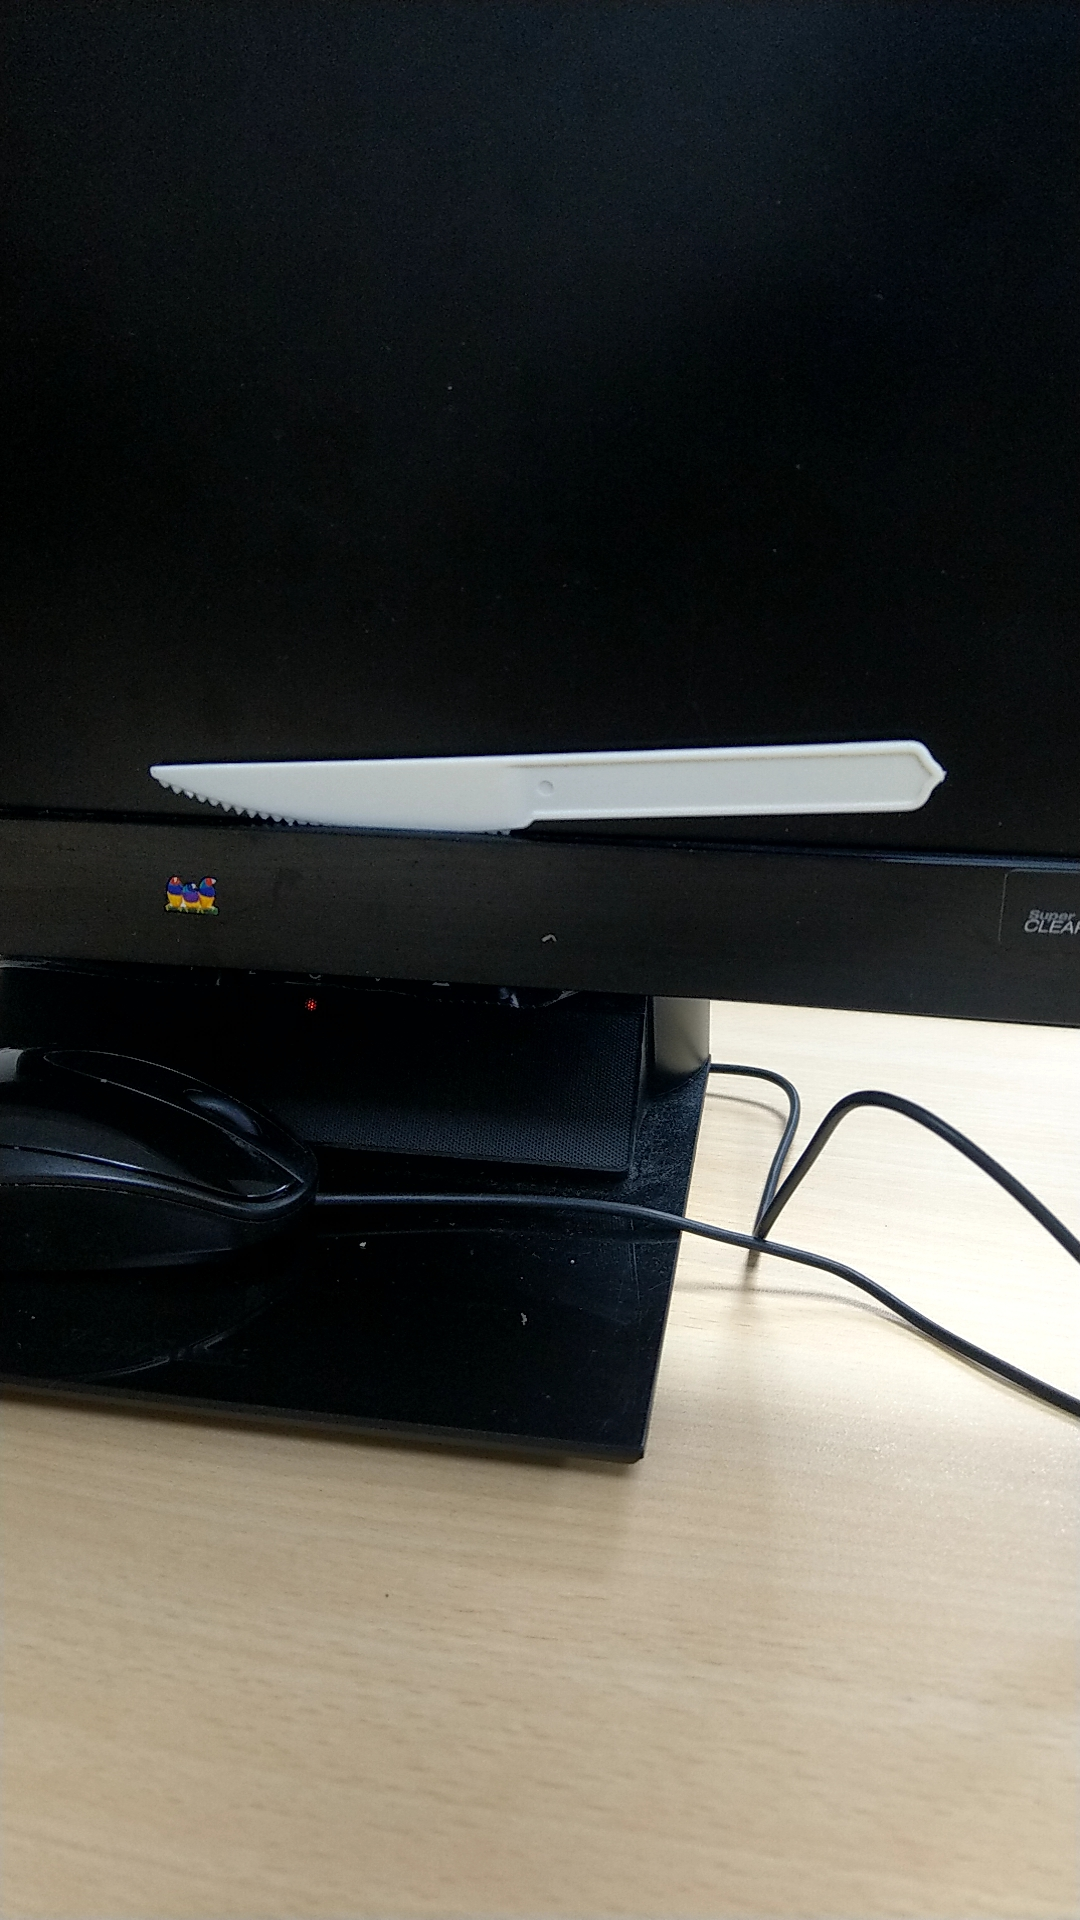knife: (127, 725, 973, 843)
